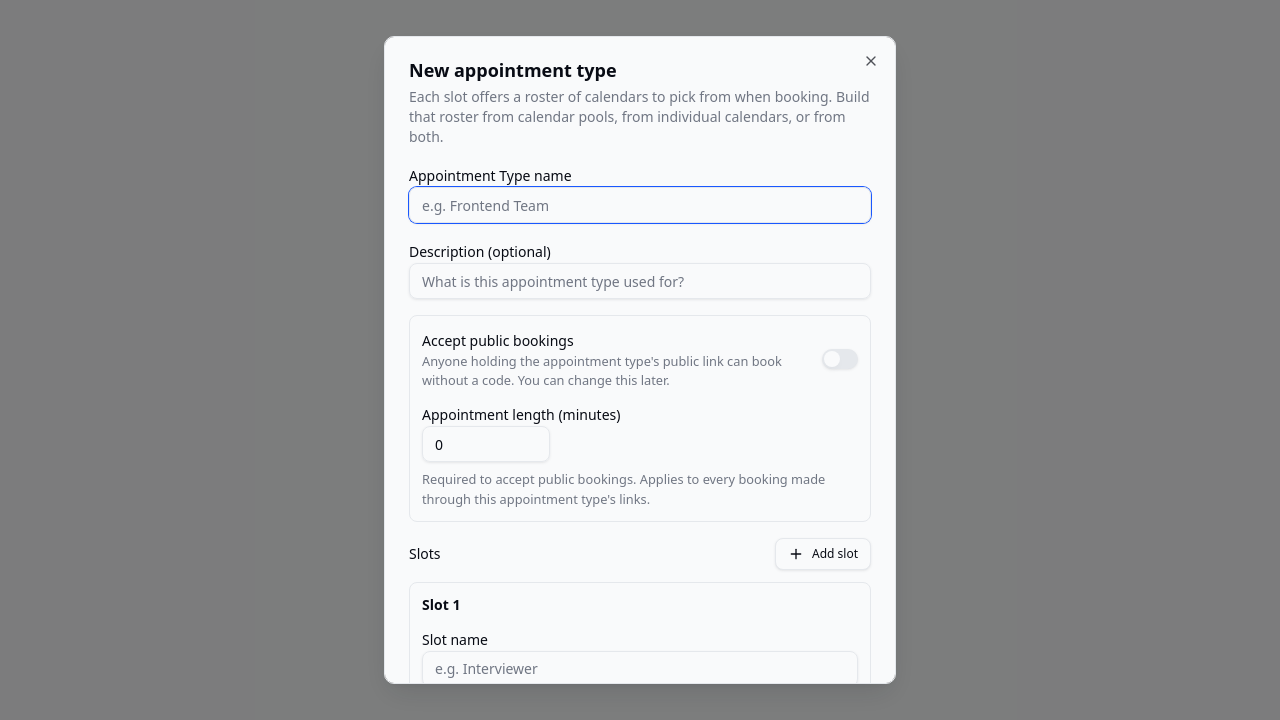
Test: CreateAppointmentTypeDialog › blocks submit when a slot has an empty roster
// Fill only appointment type name + slot name, but leave the roster empty
In the field with placeholder "e.g. Frontend Team": [640, 205] box 409,187 -> 871,223, type "Empty Pool Appointment Type"
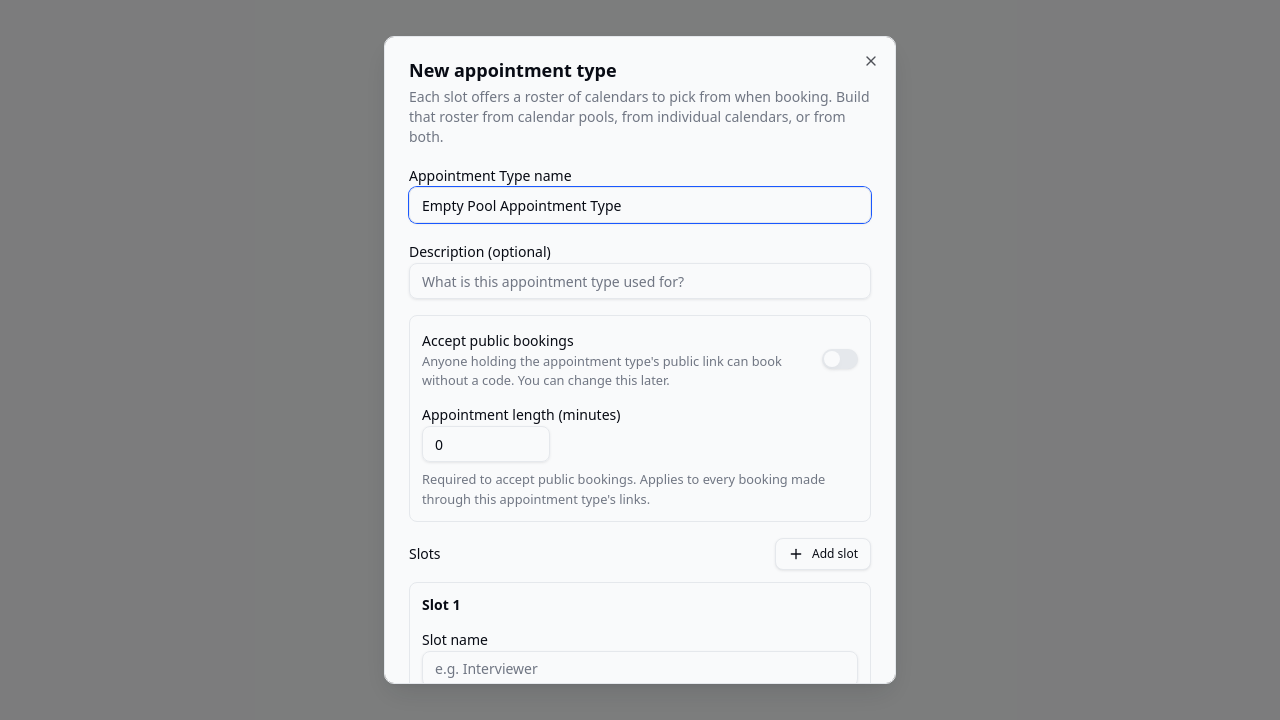
In the field with placeholder "e.g. Interviewer": [640, 669] box 422,651 -> 858,687, type "Slot One"
(page scrolled)
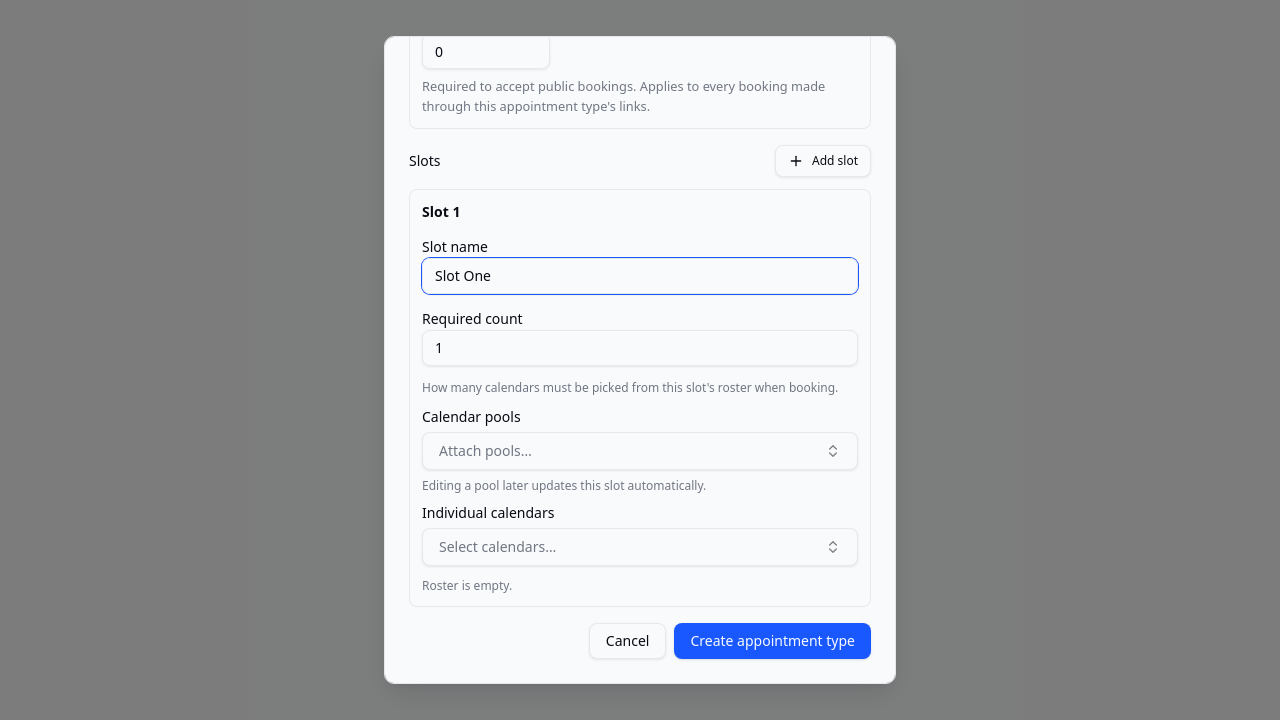
// Submit without selecting any calendar
Click the button with test id "create-appointment-type-submit": [773, 641] box 674,623 -> 871,659
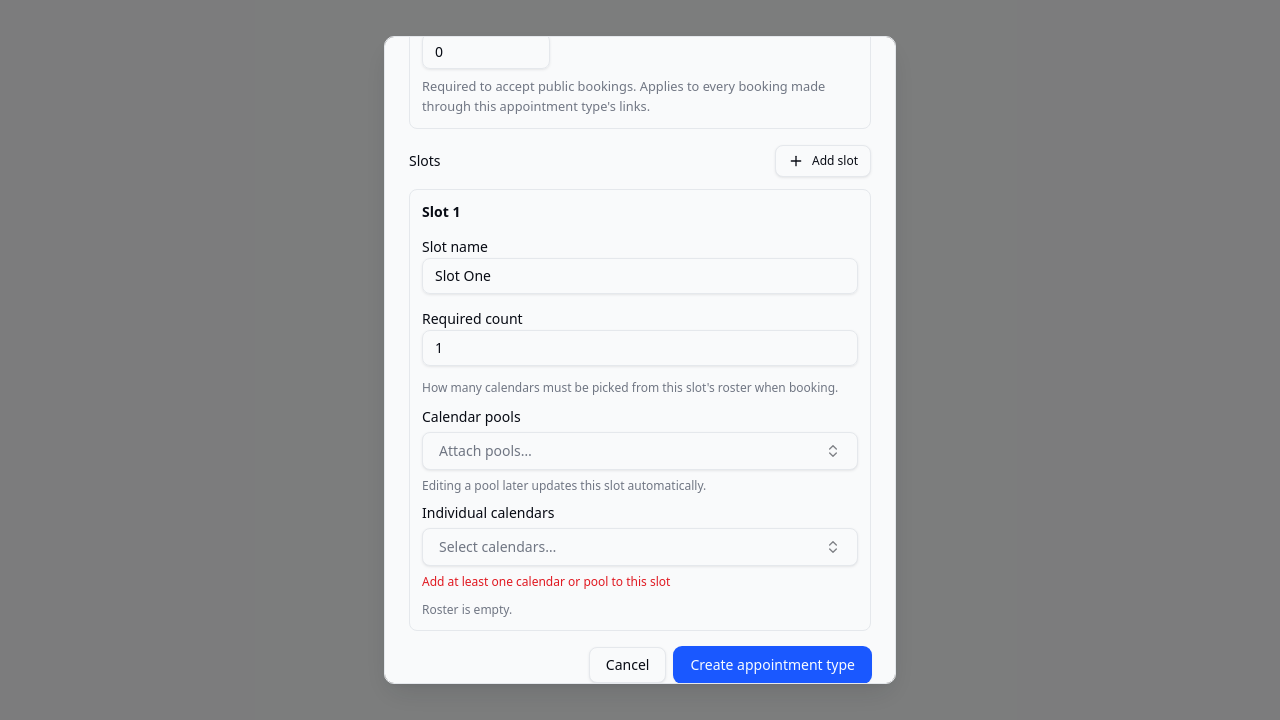
Check: the text "Add at least one calendar or pool to this slot" is shown, box 422,573 -> 670,590
